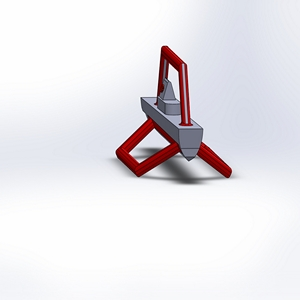submarine: (89, 26, 258, 190)
